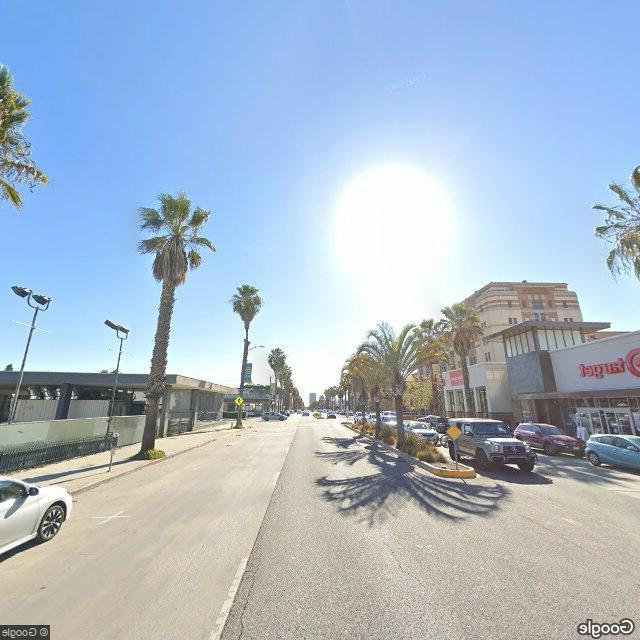pothole: (232, 553, 263, 639), (380, 537, 430, 589)
